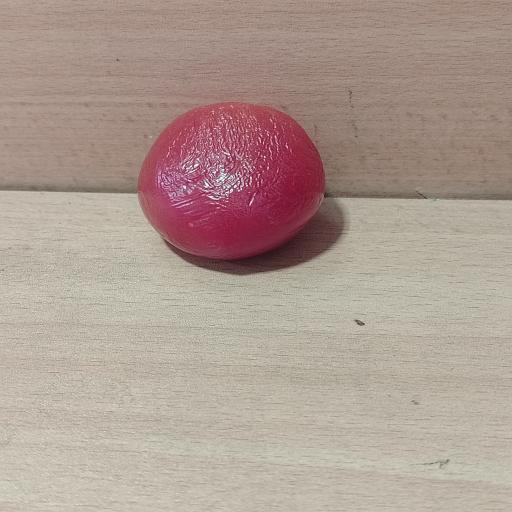spoiled: (138, 102, 325, 259)
